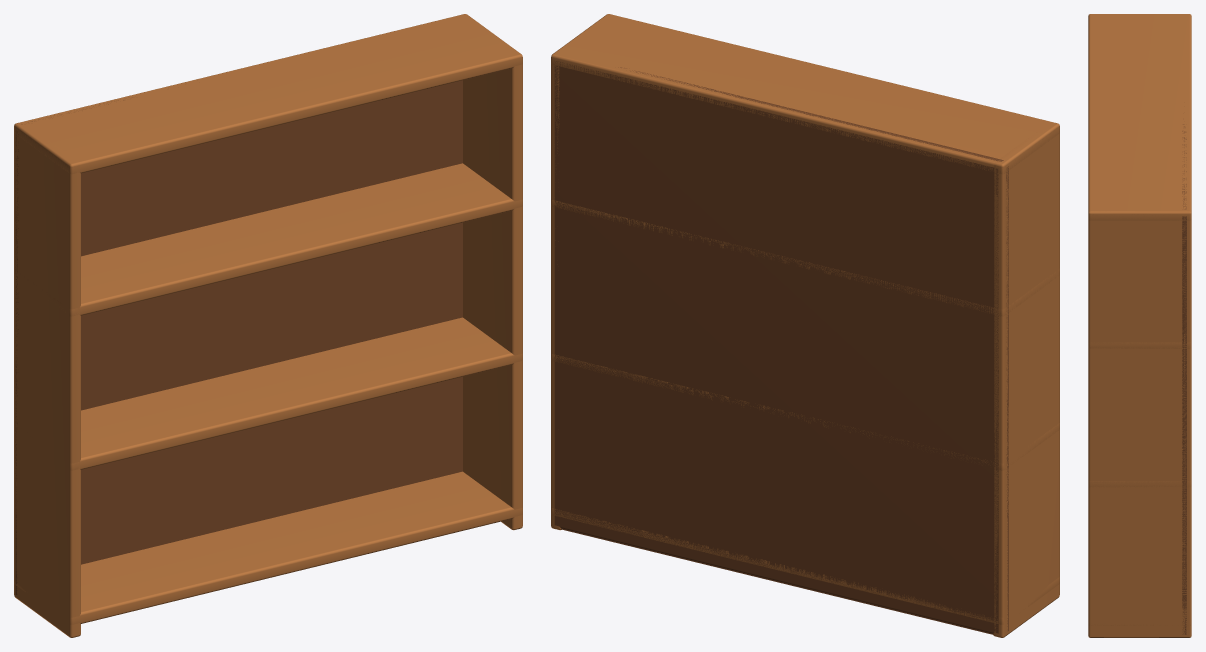
Rendered from shelf.glb.
The picture shows the model from 3 angles, left to right: view 1: azimuth 30°, elevation 25°; view 2: azimuth 150°, elevation 25°; view 3: azimuth 270°, elevation 25°; orthographic projection. The views are drawn at different scales.
Parts seen in each view (by area): view 1: Back, Side, Board.003, Board, Board.002, Board.001, Side.001; view 2: Back, Side, Board.003, Board, Board.002, Side.001, Board.001; view 3: Side.001, Board.003, Back, Board.002, Board.001.
Part boxes in pixels (x1,y1,x2,y2): Back: [15, 80, 462, 594]; Side: [14, 124, 80, 637]; Board.003: [14, 14, 522, 174]; Board: [14, 471, 522, 624]; Board.002: [14, 163, 522, 316]; Board.001: [14, 317, 522, 470]; Side.001: [463, 54, 522, 530]; Back: [554, 61, 1008, 634]; Side: [993, 122, 1059, 637]; Board.003: [551, 14, 1059, 174]; Board: [551, 507, 1059, 624]; Board.002: [551, 199, 1059, 316]; Side.001: [551, 56, 561, 530]; Board.001: [551, 353, 1059, 470]; Side.001: [1088, 211, 1191, 637]; Board.003: [1088, 14, 1191, 220]; Back: [1182, 124, 1186, 634]; Board.002: [1088, 342, 1190, 348]; Board.001: [1088, 480, 1191, 487].
Size of the model in its own units: 2 by 2 by 0.44.
